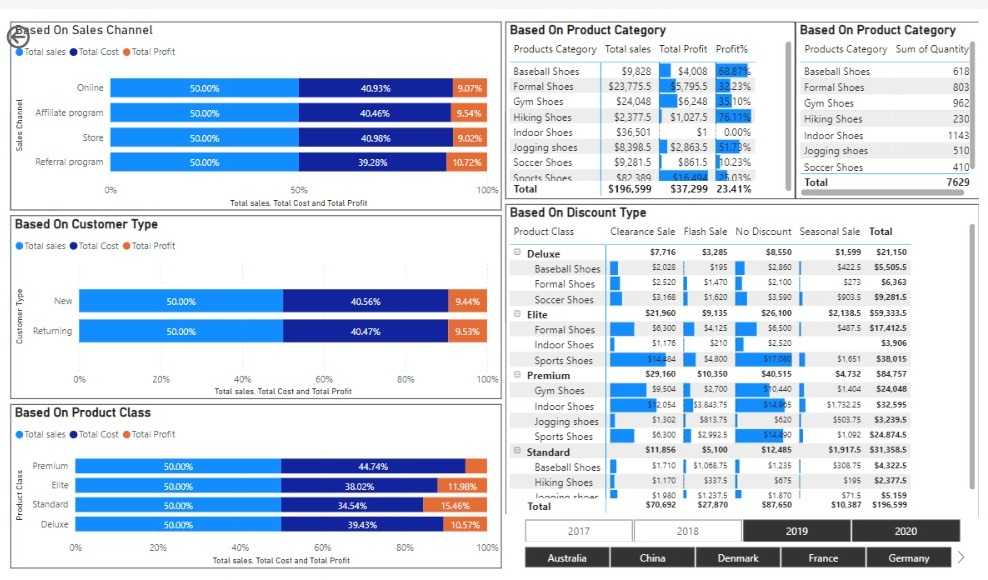

Layout of this report page (visuals, bound fields, positions):
{"tool":"powerbi","page":{"name":"Page 4","canvas":[1280,720],"ordinal":4},"visuals":[{"type":"hundredPercentStackedBarChart","title":"Based On Sales Channel","fields":{"Category":["Sales Channel Details.Sales Channel"],"Y":["All Measures Table.Total sales","All Measures Table.Total Cost","All Measures Table.Total Profit"]},"box":[10.2,0,644.1,247.5],"z":0},{"type":"hundredPercentStackedBarChart","title":"Based On Customer Type","fields":{"Y":["All Measures Table.Total sales","All Measures Table.Total Cost","All Measures Table.Total Profit"],"Category":["Sales Data.Customer Type"]},"box":[10.2,254.2,644.1,240.7],"z":1000},{"type":"hundredPercentStackedBarChart","title":"Based On Product Class","fields":{"Category":["Sales Data.Product Class"],"Y":["All Measures Table.Total sales","All Measures Table.Total Cost","All Measures Table.Total Profit"]},"box":[10.2,501.7,644.1,215.3],"z":2000},{"type":"pivotTable","title":"Based On Product Category","fields":{"Rows":["Products Details.Products Category"],"Values":["All Measures Table.Total sales","All Measures Table.Total Profit","All Measures Table.Profit%"]},"box":[658.5,0,380.2,233],"z":3000},{"type":"actionButton","box":[0,0,100,40],"z":4000},{"type":"tableEx","title":"Based On Product Category","fields":{"Values":["Products Details.Products Category","Sum(Sales Data.Quantity)"]},"box":[1038.7,0,241.1,233],"z":5000},{"type":"pivotTable","title":"Based On Discount Type","fields":{"Rows":["Sales Data.Product Class","Products Details.Products Category"],"Columns":["Discount Details.Discount Type"],"Values":["All Measures Table.Total sales"]},"box":[658.5,239.5,621.3,409.3],"z":6000},{"type":"slicer","fields":{"Values":["Calendar Table.Date.Variation.Date Hierarchy.Year"]},"box":[658.5,645.6,619.7,43.7],"z":7000},{"type":"slicer","fields":{"Values":["Sales Data.Country"]},"box":[658.5,682.8,608.4,34],"z":8000}]}

Visuals, with their boxes in screenshot pixels (x1, y1, x2, y2):
"Based On Sales Channel" hundredPercentStackedBarChart: l=8, t=18, r=498, b=206
"Based On Customer Type" hundredPercentStackedBarChart: l=8, t=212, r=498, b=395
"Based On Product Class" hundredPercentStackedBarChart: l=8, t=400, r=498, b=564
"Based On Product Category" pivotTable: l=501, t=18, r=791, b=195
actionButton: l=0, t=18, r=76, b=48
"Based On Product Category" tableEx: l=791, t=18, r=974, b=195
"Based On Discount Type" pivotTable: l=501, t=200, r=974, b=512
slicer - Calendar Table.Date.Variation.Date Hierarchy.Year: l=501, t=509, r=973, b=543
slicer - Sales Data.Country: l=501, t=538, r=964, b=564
